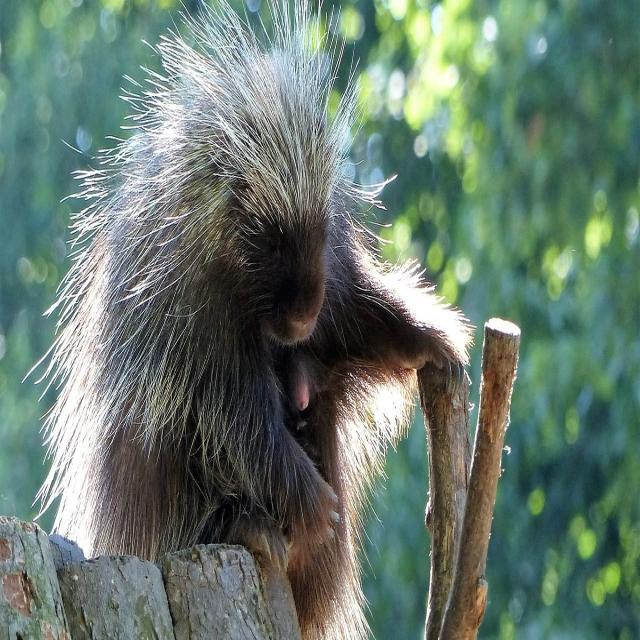Porcupine: (58, 21, 422, 546)
